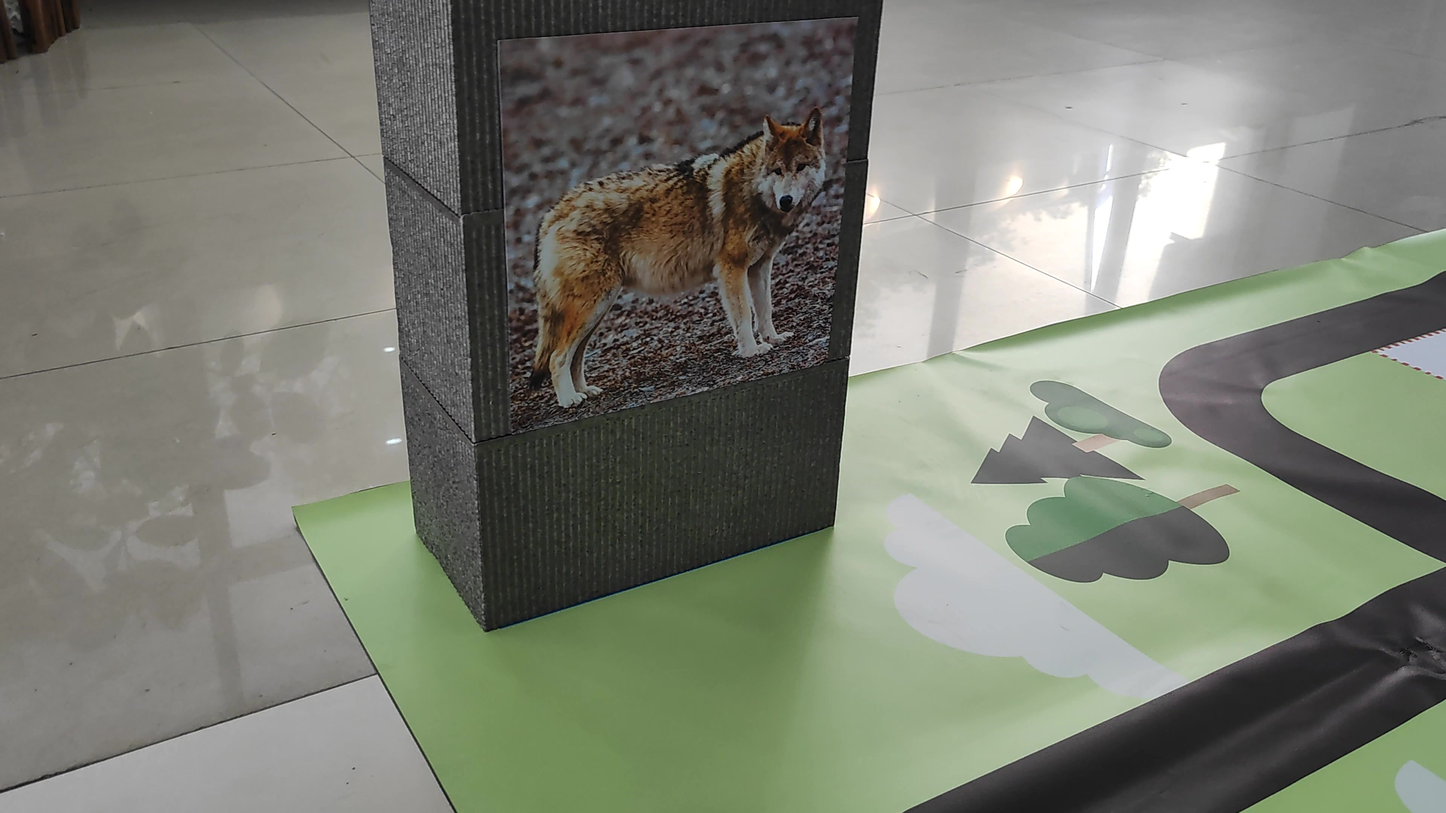wolf: (478, 82, 843, 411)
